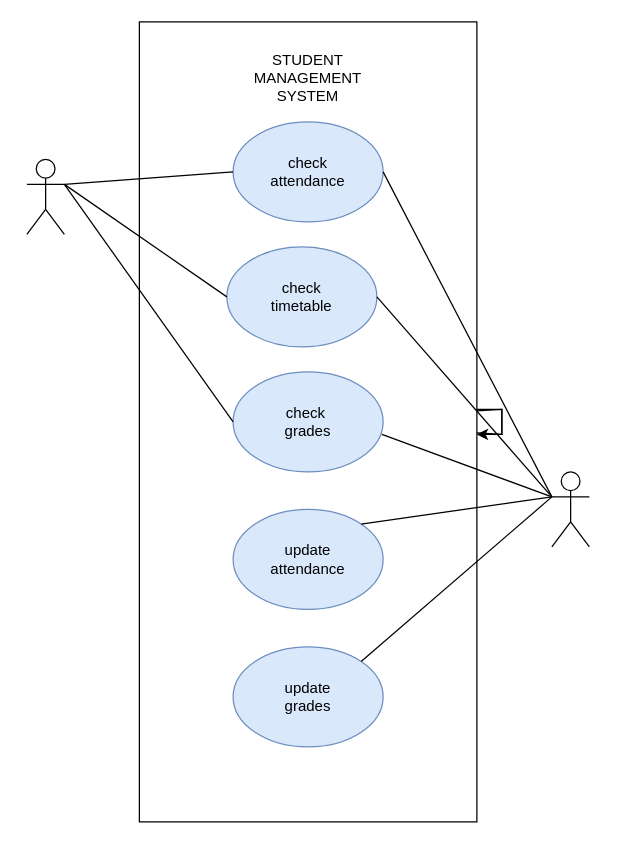
Image size: 618x844. Some labels were removed from this diagram. Each missing label, with the centre of its shape:
student: point 45,196
teacher: point 570,509
